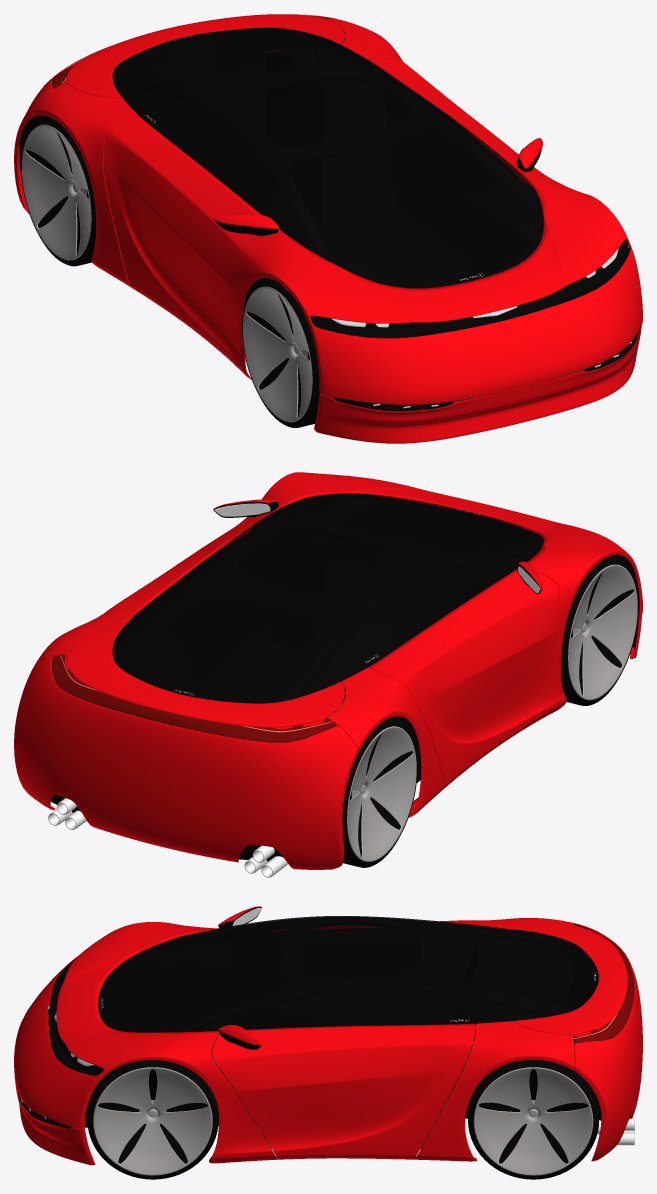
Rendered from Car1.glb.
The picture shows the model from 3 angles, top to bottom: view 1: azimuth 30°, elevation 25°; view 2: azimuth 150°, elevation 25°; view 3: azimuth 270°, elevation 25°; orthographic projection. The views are drawn at different scales.
Parts seen in each view (by area): view 1: future_car_002_by_unityfan; view 2: future_car_002_by_unityfan; view 3: future_car_002_by_unityfan.
Boxes of the visible parts, x1,y1,x2,y2 form: future_car_002_by_unityfan: [14, 14, 642, 443]; future_car_002_by_unityfan: [14, 472, 642, 877]; future_car_002_by_unityfan: [14, 906, 642, 1179].
Size of the model in its own units: 2.19 by 1.21 by 4.22.
